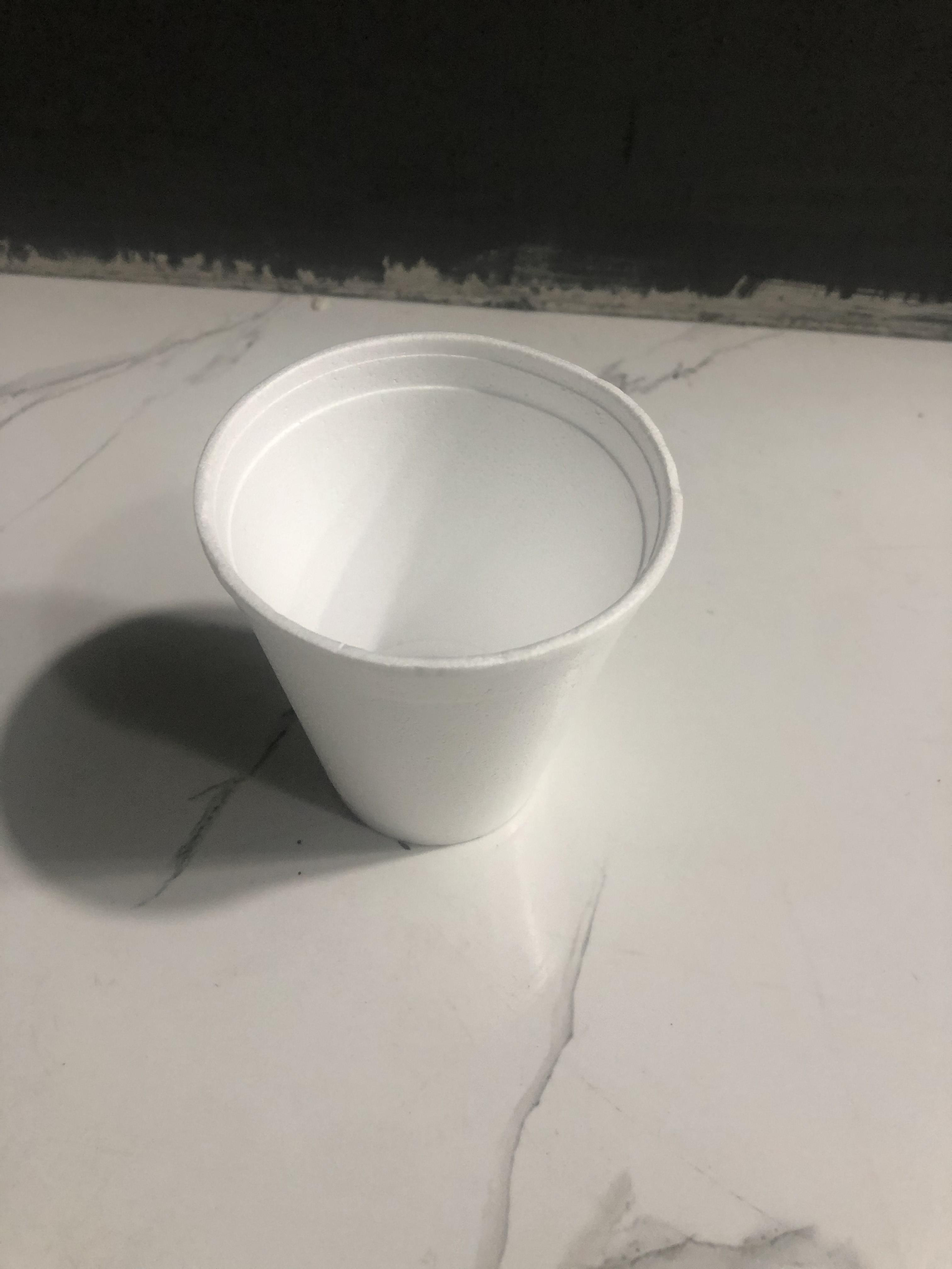cup-disposable: (193, 322, 691, 855)
